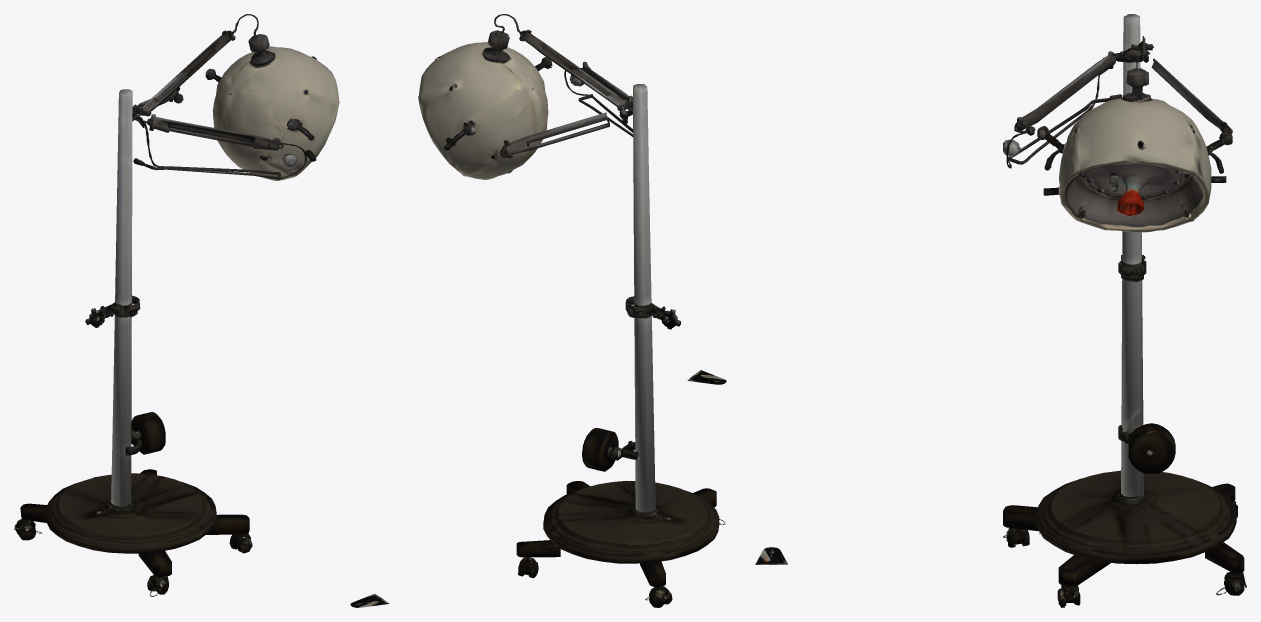
3 renders of one model, left to right at view 1: azimuth 30°, elevation 25°; view 2: azimuth 150°, elevation 25°; view 3: azimuth 270°, elevation 25°, orthographic. The views are drawn at different scales.
Visible parts, largest first — view 1: tripo_node_e82d8569-a819-4a0a-946d-b8ddd825a85a; view 2: tripo_node_e82d8569-a819-4a0a-946d-b8ddd825a85a; view 3: tripo_node_e82d8569-a819-4a0a-946d-b8ddd825a85a.
Part boxes in pixels (bbox=[...]): tripo_node_e82d8569-a819-4a0a-946d-b8ddd825a85a: bbox=[14, 14, 389, 607]; tripo_node_e82d8569-a819-4a0a-946d-b8ddd825a85a: bbox=[418, 14, 726, 607]; tripo_node_e82d8569-a819-4a0a-946d-b8ddd825a85a: bbox=[755, 14, 1246, 607].
Size of the model in its own units: 0.5605 by 0.998 by 0.7559.
Materials: 1 (1 with a texture image).
